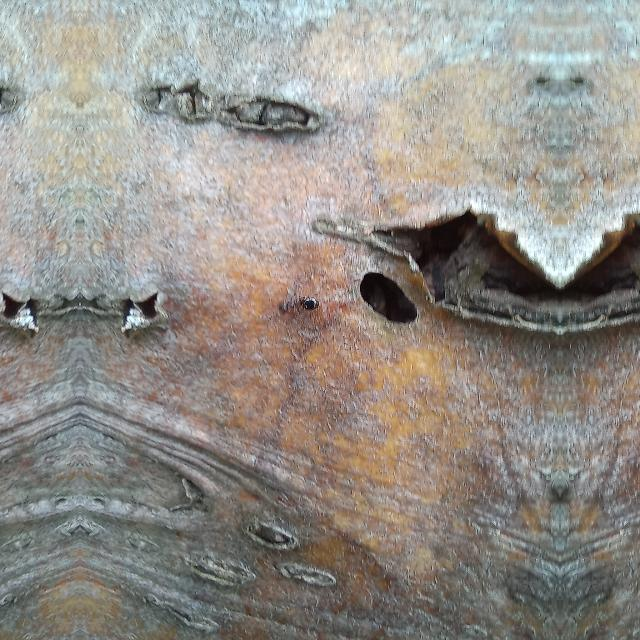Dolichoderus: (274, 284, 326, 320)
